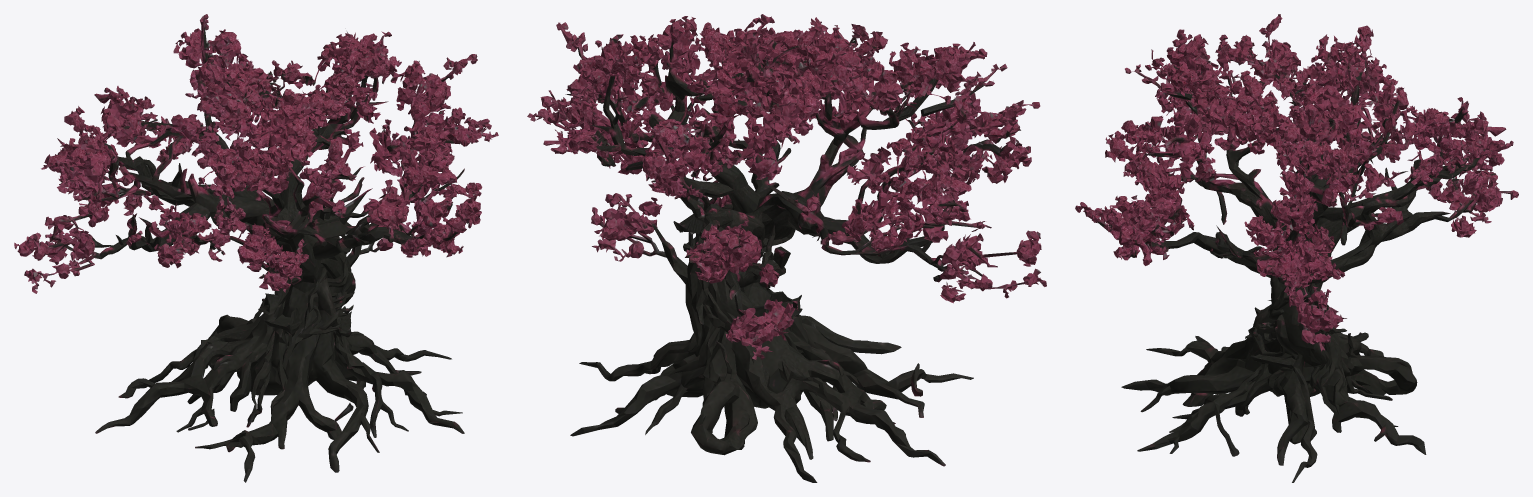
The model's file is sakura_great.glb.
The picture shows the model from 3 angles, left to right: view 1: azimuth 30°, elevation 25°; view 2: azimuth 150°, elevation 25°; view 3: azimuth 270°, elevation 25°; orthographic projection. The views are drawn at different scales.
Visible parts, largest first — view 1: Mesh_0; view 2: Mesh_0; view 3: Mesh_0.
Part boxes in pixels (x1,y1,x2,y2): Mesh_0: (14,14,498,482); Mesh_0: (527,14,1046,482); Mesh_0: (1075,14,1518,482).
Bounding box in the file's own units: 11.48 × 8.5 × 9.62.
1 material, 1 textured.
